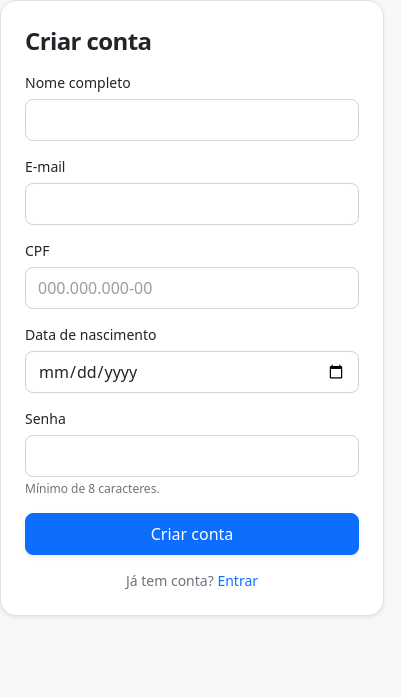
Test: CadastroForm › mostra a mensagem de erro que a API devolver (ex.: e-mail repetido)
Type "Ana Souza" into the field labelled "Nome completo" at (192, 120), box left=25, top=99, right=359, bottom=141
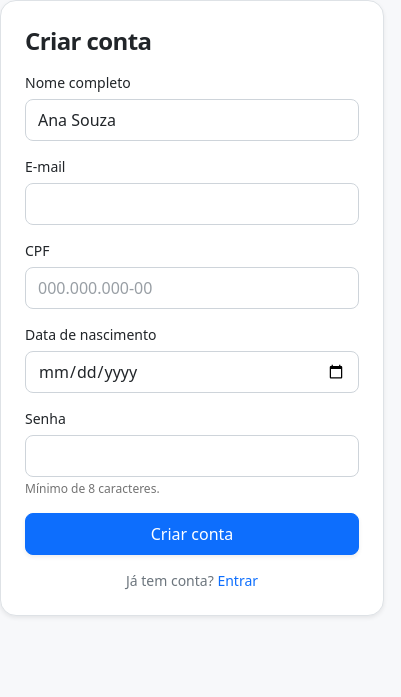
Type "ana@example.com" into the field labelled "E-mail" at (192, 204), box left=25, top=183, right=359, bottom=225
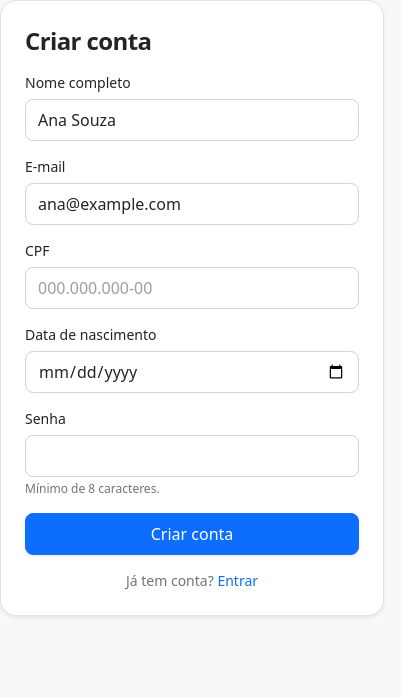
Type "529.982.247-25" into the field labelled "CPF" at (192, 288), box left=25, top=267, right=359, bottom=309
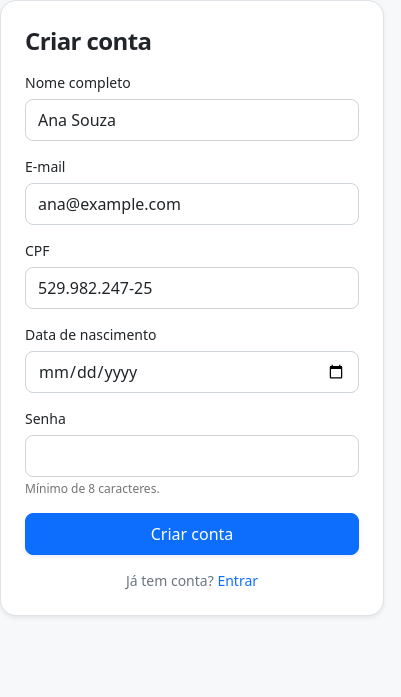
Type "1990-05-20" into the date field labelled "Data de nascimento" at (192, 372), box left=25, top=351, right=359, bottom=393
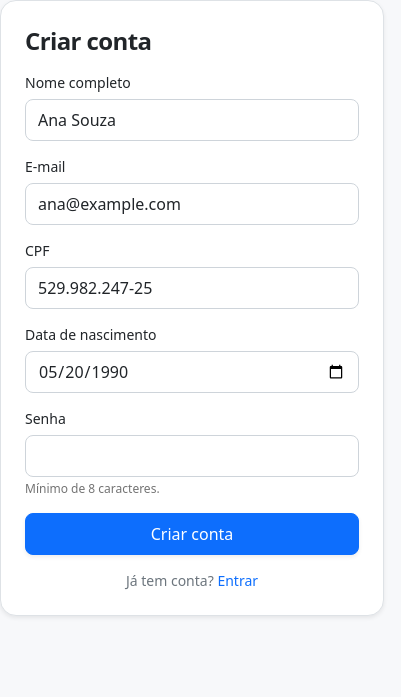
Type "senha1234" into the password field labelled "Senha" at (192, 456), box left=25, top=435, right=359, bottom=477
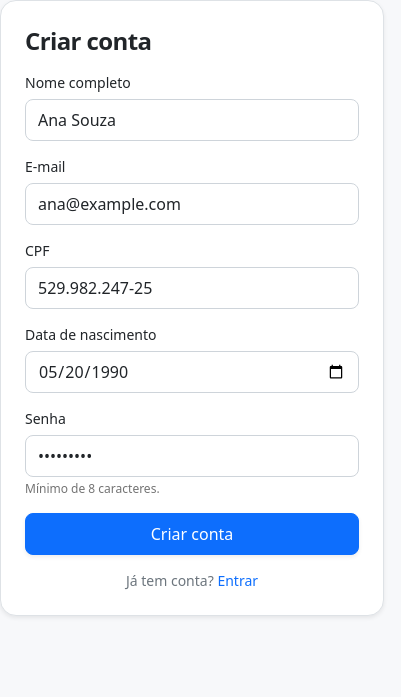
Click the button "Criar conta" at (192, 534), box left=25, top=513, right=359, bottom=555
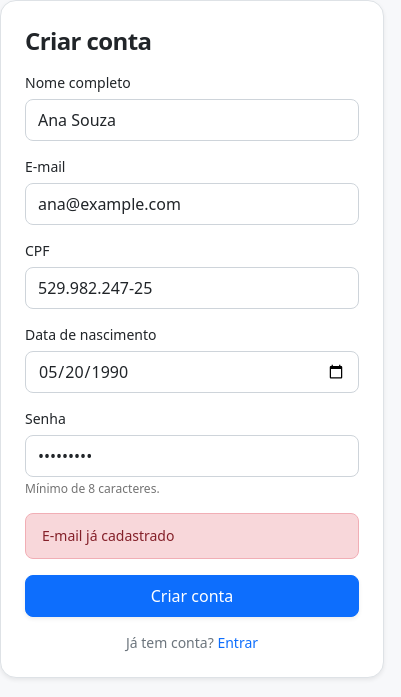
Expected: the message reads "E-mail já cadastrado", left=42, top=526, right=174, bottom=545
